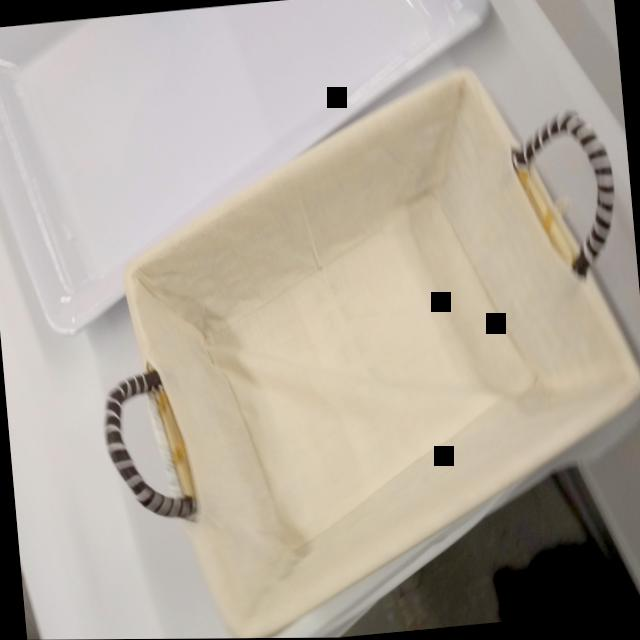basket: (79, 59, 640, 640)
